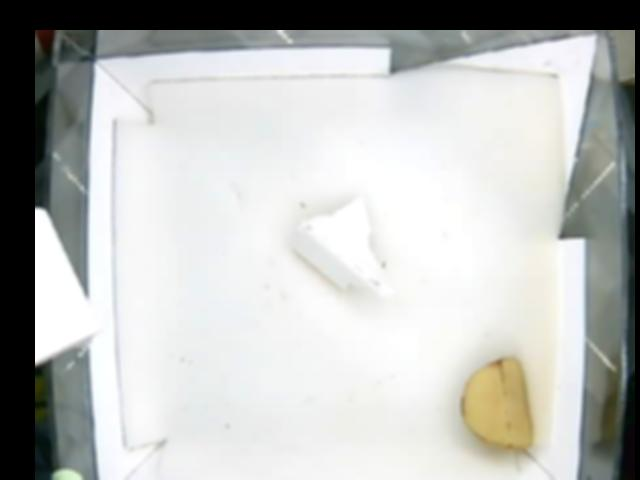China: (289, 194, 394, 304)
Potato: (460, 355, 535, 448)
